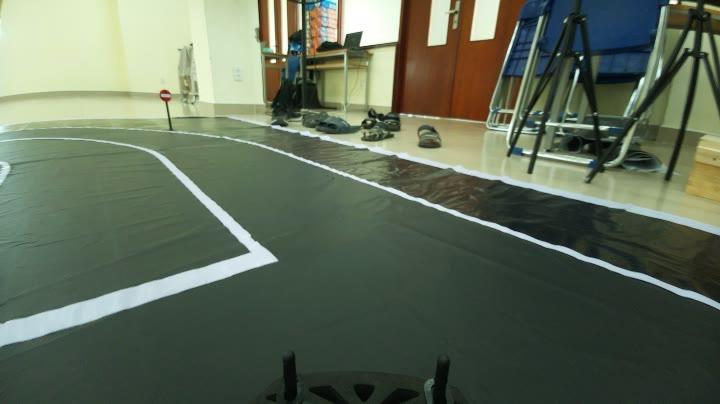no_entry: (158, 88, 172, 104)
